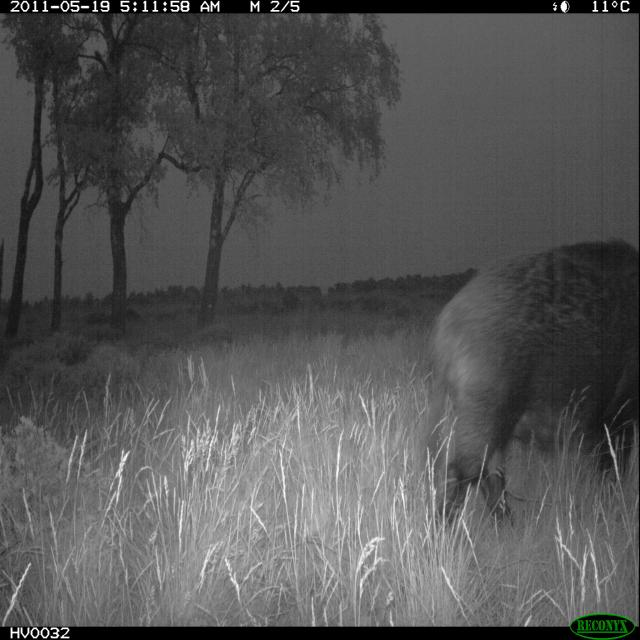boar: (407, 203, 640, 553)
